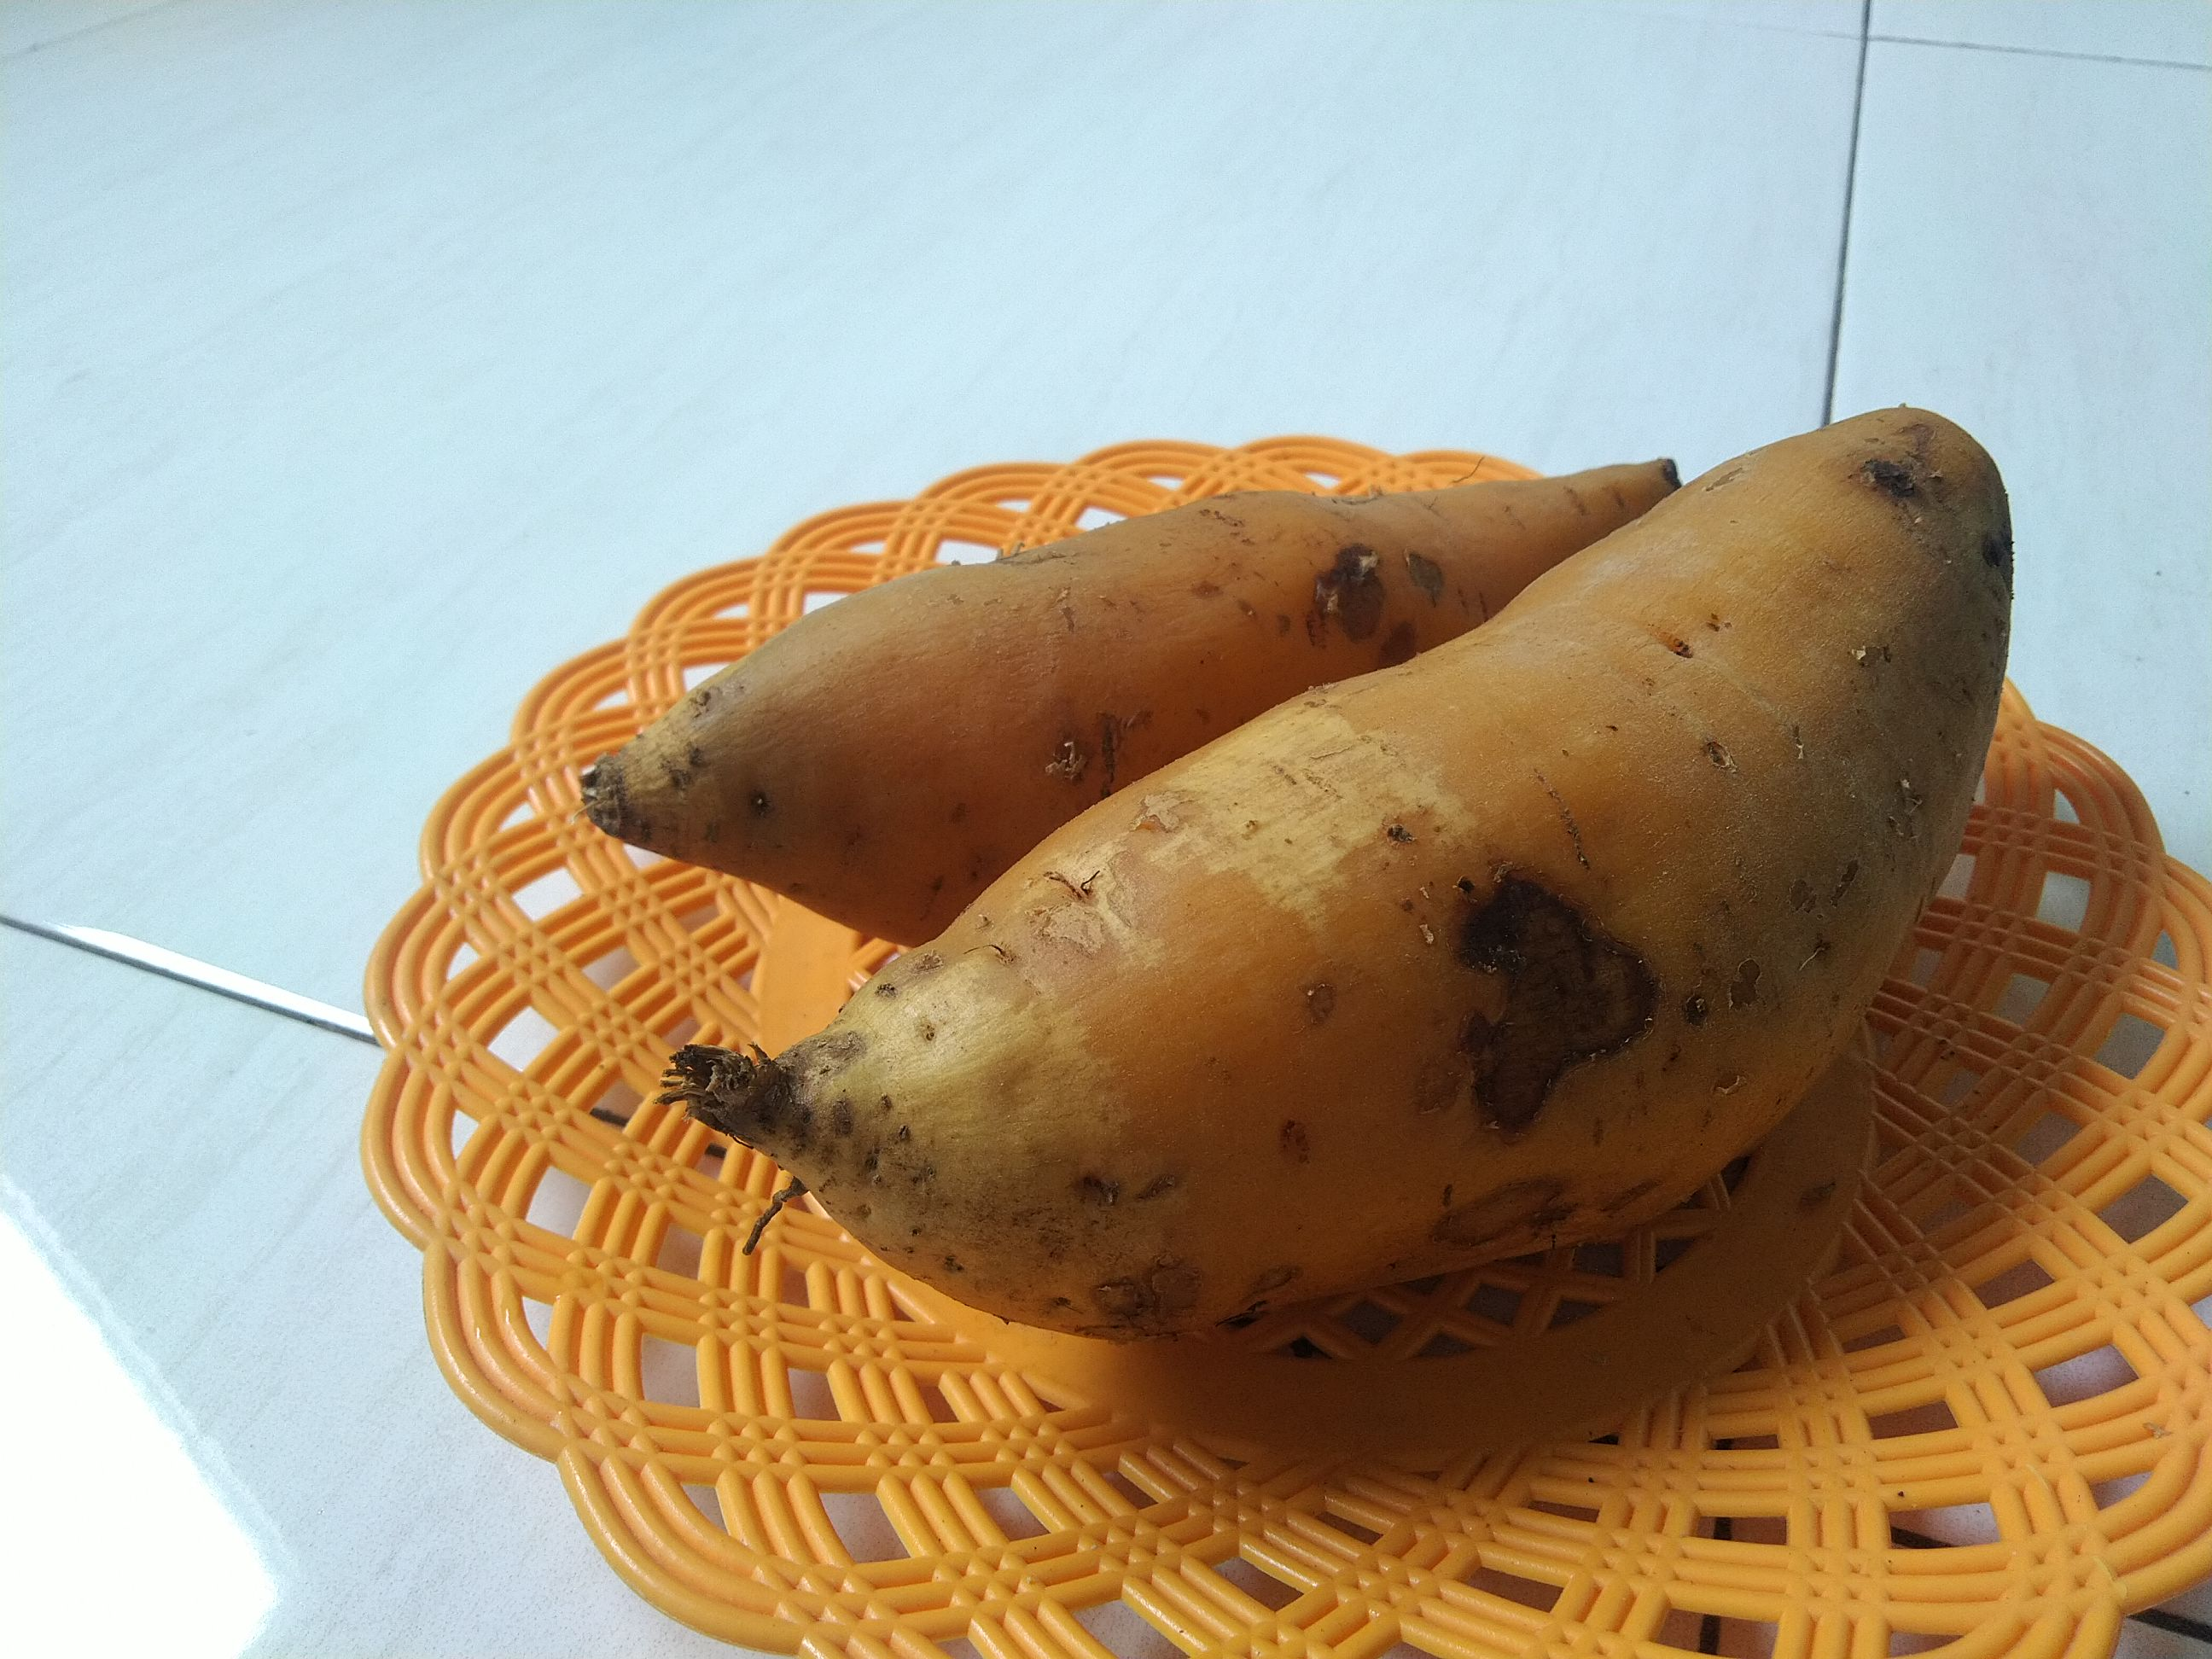ubi cilembu: (583, 340, 2050, 1417), (672, 404, 2026, 1382), (590, 434, 1705, 951)
